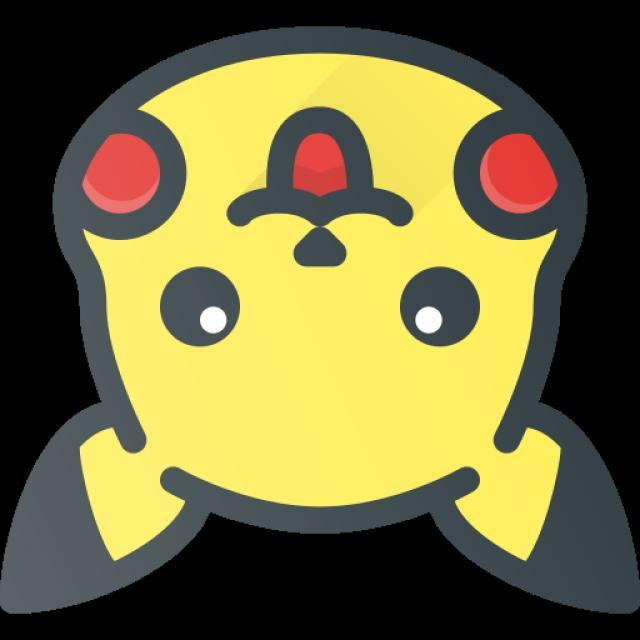Pikachu: (0, 36, 640, 636)
